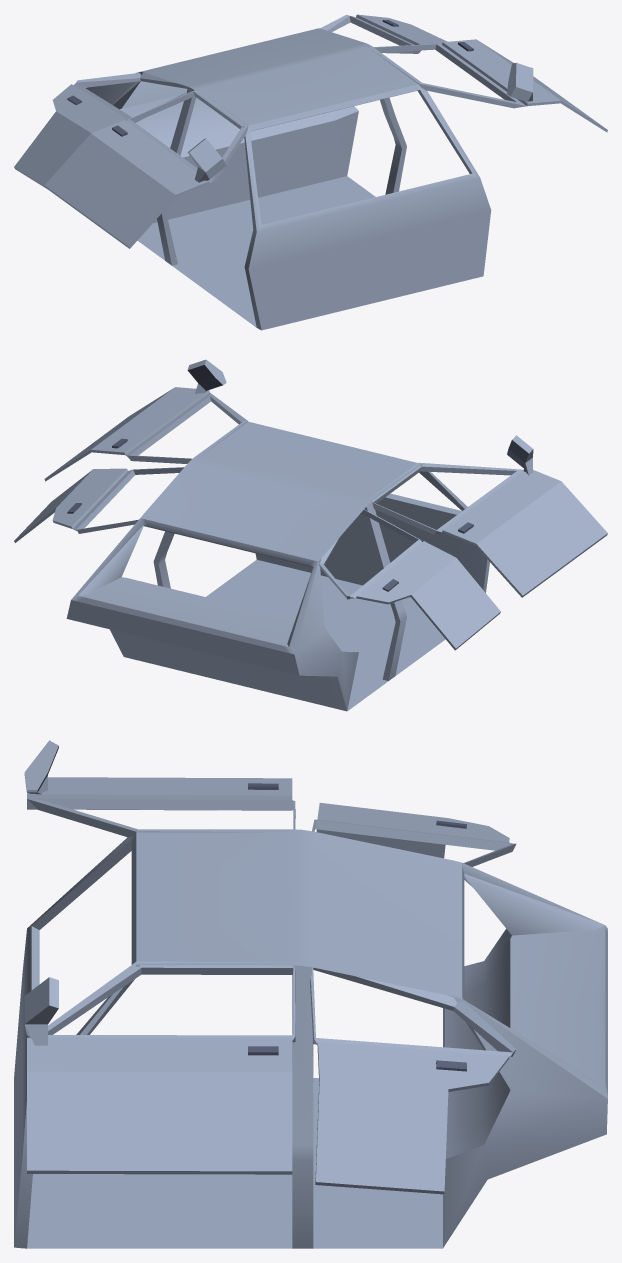
Rendered from Doors3.fbx.
3 renders of one model, top to bottom at view 1: azimuth 30°, elevation 25°; view 2: azimuth 150°, elevation 25°; view 3: azimuth 270°, elevation 25°, orthographic. The views are drawn at different scales.
Visible parts, largest first — view 1: Doors2.001; view 2: Doors2.001; view 3: Doors2.001.
Boxes of the visible parts, x1,y1,x2,y2 form: Doors2.001: (14, 14, 607, 330); Doors2.001: (14, 359, 607, 711); Doors2.001: (14, 740, 607, 1248).
Size of the model in its own units: 4.71 by 1.83 by 3.24.
